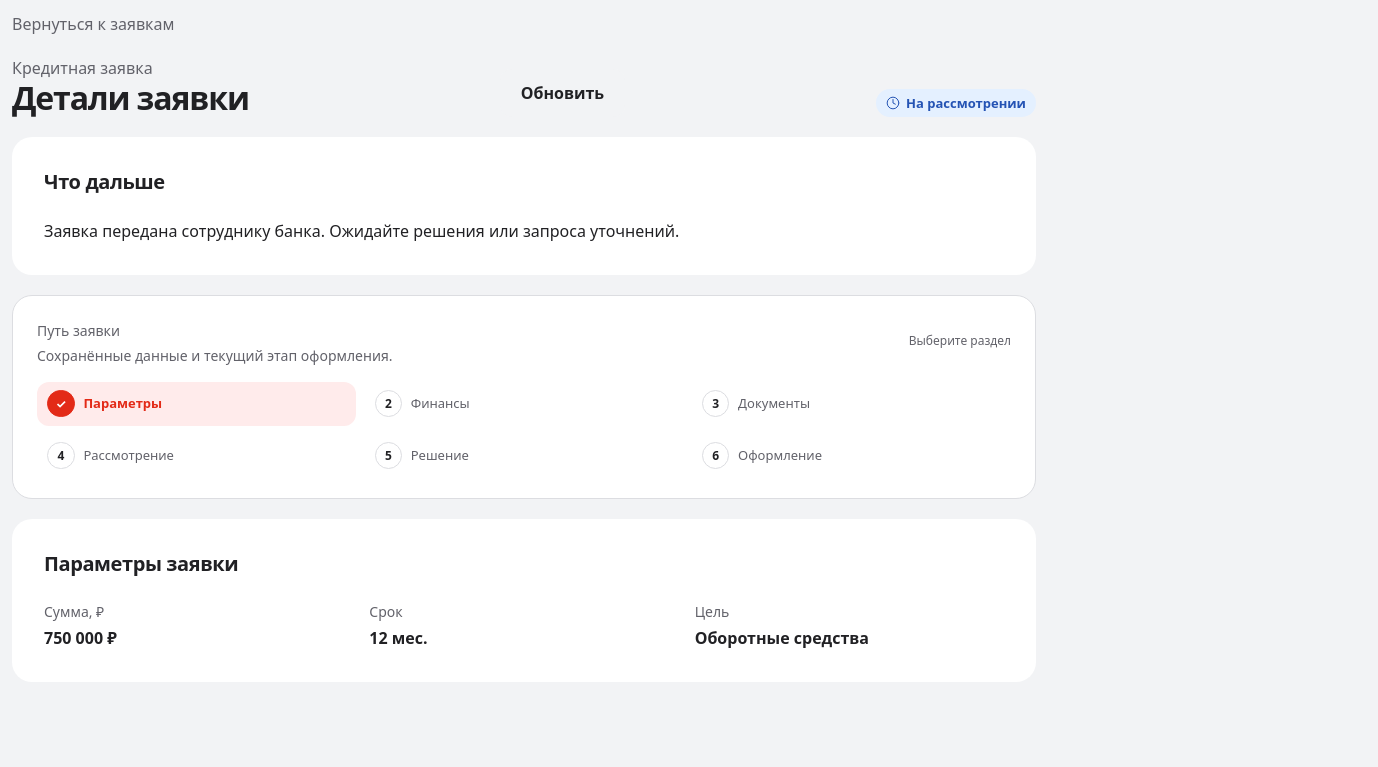
it: shows verification results and highlights manual review
The width and height of the screenshot is (1378, 767).
Click the tab "4 Рассмотрение": click(129, 455) [37,434,356,478]
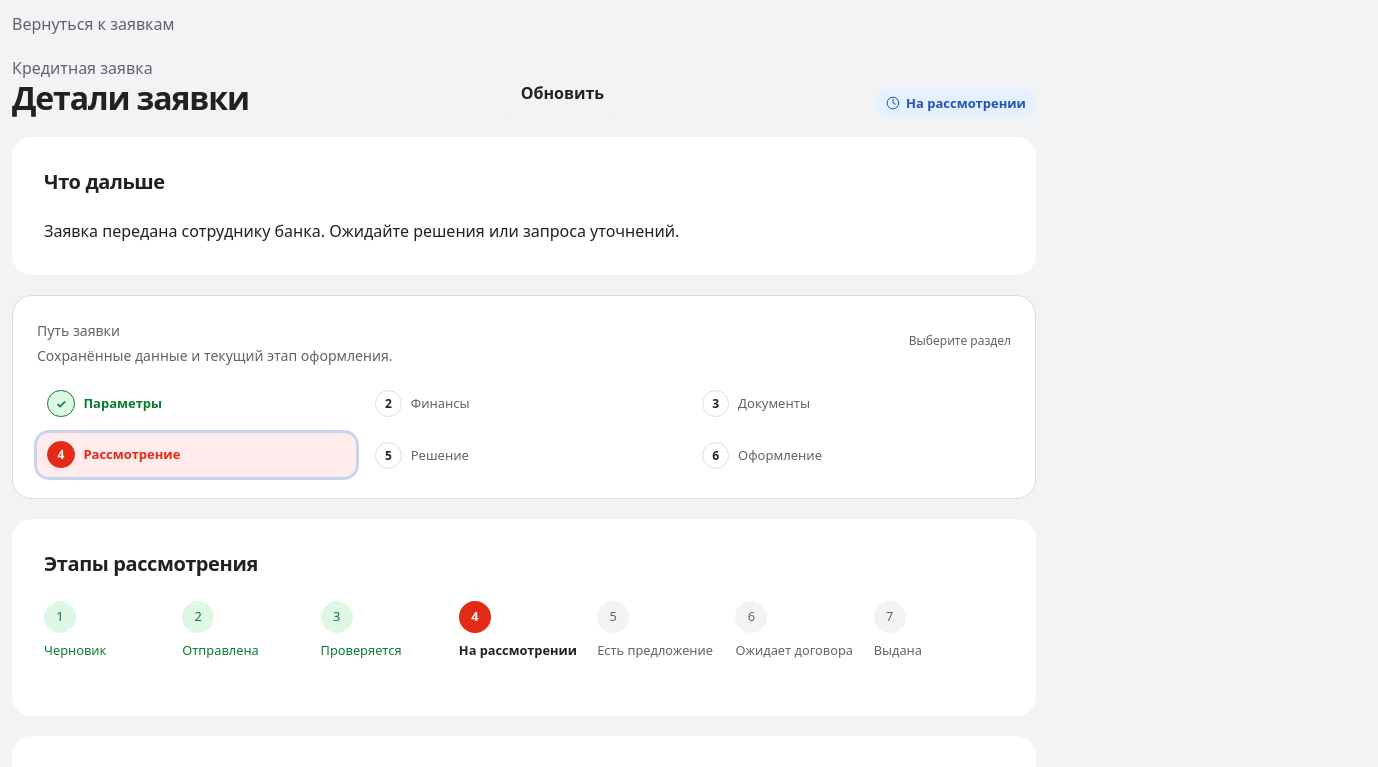
expect the list item "4 На рассмотрении" is shown: met, box [459,601,589,660]
